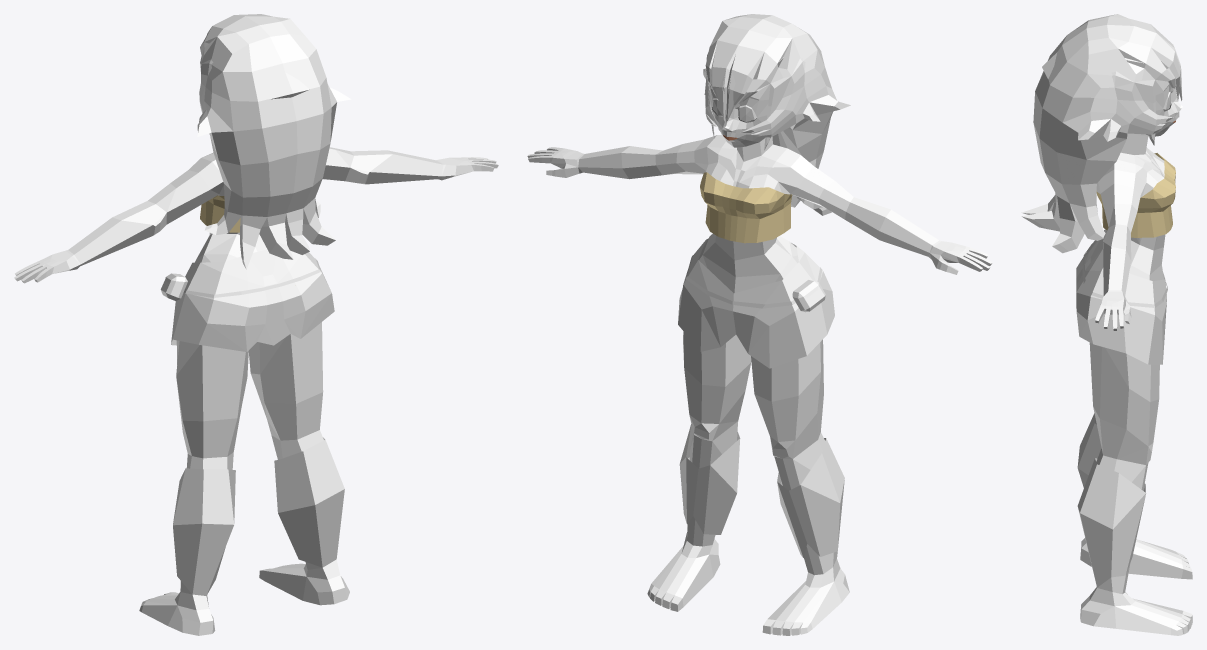
The model's file is amy.glb.
The picture shows the model from 3 angles, left to right: view 1: azimuth 30°, elevation 25°; view 2: azimuth 150°, elevation 25°; view 3: azimuth 270°, elevation 25°; orthographic projection. The views are drawn at different scales.
Parts seen in each view (by area): view 1: cuerpo, cabeza.peloLargo, ropa.perneras, ropa.minifalda, cabeza.peloCorto, ropa.camisola; view 2: cuerpo, cabeza.peloLargo, ropa.minifalda, ropa.perneras, ropa.camisola, cabeza.peloCorto, ropa.bolsa; view 3: cuerpo, cabeza.peloLargo, ropa.perneras, ropa.minifalda, ropa.camisola, cabeza.peloCorto, ropa.correa.
Boxes of the visible parts, x1,y1,x2,y2 form: cuerpo: (14,147,498,635); cabeza.peloLargo: (197,14,351,269); ropa.perneras: (173,437,344,595); ropa.minifalda: (171,249,334,351); cabeza.peloCorto: (201,42,309,99); ropa.camisola: (200,195,240,232); cuerpo: (527,57,992,635); cabeza.peloLargo: (703,14,850,215); ropa.minifalda: (678,239,834,368); ropa.perneras: (679,424,844,557); ropa.camisola: (700,172,792,243); cabeza.peloCorto: (711,57,805,121); ropa.bolsa: (792,280,825,312); cuerpo: (1080,78,1192,635); cabeza.peloLargo: (1021,14,1180,253); ropa.perneras: (1077,413,1146,587); ropa.minifalda: (1076,229,1166,364); ropa.camisola: (1096,153,1175,237); cabeza.peloCorto: (1042,52,1182,100); ropa.correa: (1082,244,1167,307).
Size of the model in its own units: 8.92 by 10.57 by 2.85.
